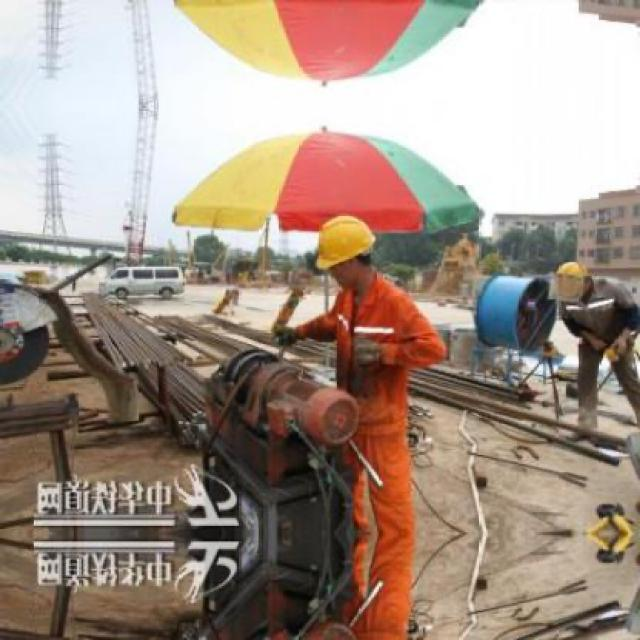con casco: (315, 197, 395, 306)
